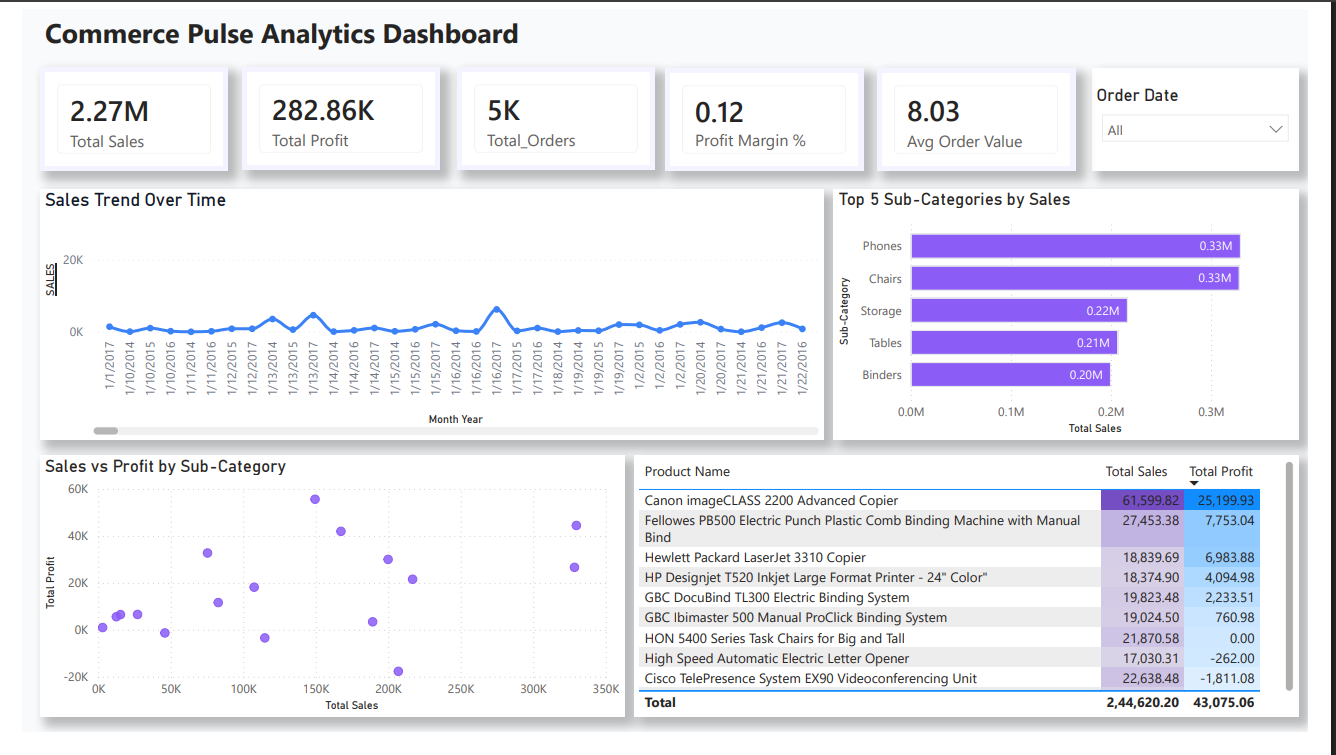

Layout of this report page (visuals, bound fields, positions):
{"tool":"powerbi","page":{"name":"Overview","canvas":[1280,720],"ordinal":0},"visuals":[{"type":"shape","box":[1065,58.8,206.2,102.5],"z":0},{"type":"cardVisual","fields":{"Data":["ecommerce_project superstore_final.Total Sales"]},"box":[17.5,57.5,187.5,103.8],"z":1000},{"type":"cardVisual","fields":{"Data":["ecommerce_project superstore_final.Total Profit"]},"box":[218.8,57.5,197.5,102.5],"z":2000},{"type":"cardVisual","fields":{"Data":["ecommerce_project superstore_final.Total_Orders"]},"box":[432.5,57.5,197.5,102.5],"z":3000},{"type":"cardVisual","fields":{"Data":["ecommerce_project superstore_final.Profit Margin %"]},"box":[640,58.8,197.5,102.5],"z":4000},{"type":"cardVisual","fields":{"Data":["ecommerce_project superstore_final.Avg Order Value"]},"box":[851.2,58.8,197.5,102.5],"z":5000},{"type":"lineChart","title":"Sales Trend Over Time","fields":{"Y":["ecommerce_project superstore_final.Total Sales"],"Category":["ecommerce_project superstore_final.Month Year"]},"box":[17.5,178.8,780,250],"z":6000},{"type":"clusteredBarChart","title":"Top 5 Sub-Categories by Sales","fields":{"Y":["ecommerce_project superstore_final.Total Sales"],"Category":["ecommerce_project superstore_final.Sub-Category"]},"box":[807.5,178.8,463.8,250],"z":7000},{"type":"scatterChart","title":"Sales vs Profit by Sub-Category","fields":{"Category":["ecommerce_project superstore_final.Sub-Category"],"X":["ecommerce_project superstore_final.Total Sales"],"Y":["ecommerce_project superstore_final.Total Profit"]},"box":[17.5,445,582.5,260],"z":8000},{"type":"slicer","title":"Order Date","fields":{"Values":["ecommerce_project superstore_final.Order Date"]},"box":[1065,76.2,206.2,102.5],"z":9000},{"type":"tableEx","fields":{"Values":["ecommerce_project superstore_final.Product Name","ecommerce_project superstore_final.Total Sales","ecommerce_project superstore_final.Total Profit"]},"box":[608.8,445,662.5,260],"z":10000},{"type":"textbox","box":[17.5,0,917.5,67.5],"z":11000}]}

Visuals, with their boxes in screenshot pixels (x1, y1, x2, y2), scaled from the page's 1280x720 canvas onto the 1336x755 screenshot:
shape: rect(1112, 62, 1327, 169)
cardVisual - ecommerce_project superstore_final.Total Sales: rect(18, 60, 214, 169)
cardVisual - ecommerce_project superstore_final.Total Profit: rect(228, 60, 435, 168)
cardVisual - ecommerce_project superstore_final.Total_Orders: rect(451, 60, 658, 168)
cardVisual - ecommerce_project superstore_final.Profit Margin %: rect(668, 62, 874, 169)
cardVisual - ecommerce_project superstore_final.Avg Order Value: rect(888, 62, 1095, 169)
"Sales Trend Over Time" lineChart: rect(18, 187, 832, 450)
"Top 5 Sub-Categories by Sales" clusteredBarChart: rect(843, 187, 1327, 450)
"Sales vs Profit by Sub-Category" scatterChart: rect(18, 467, 626, 739)
"Order Date" slicer: rect(1112, 80, 1327, 187)
tableEx - ecommerce_project superstore_final.Product Name x ecommerce_project superstore_final.Total Sales: rect(635, 467, 1327, 739)
textbox: rect(18, 0, 976, 71)
